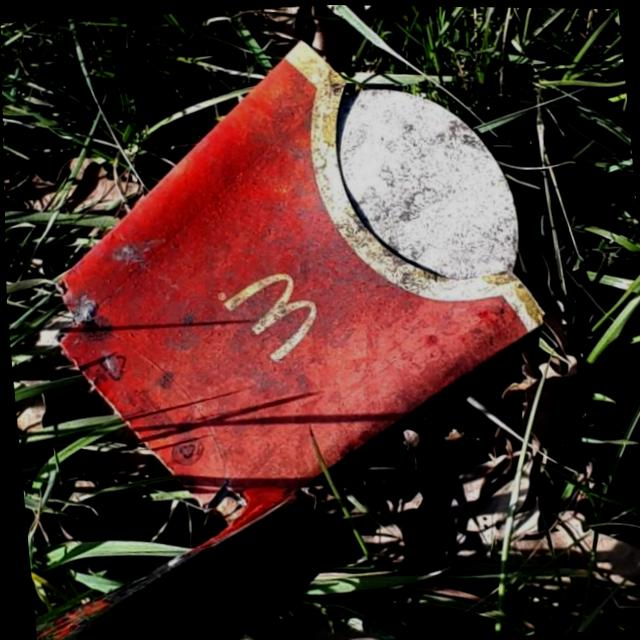Paper: (26, 13, 566, 547)
